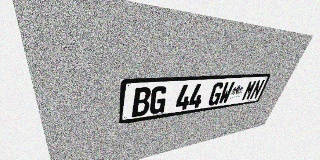4: (174, 84, 193, 111), (187, 83, 206, 109)
B: (132, 87, 152, 117)
G: (149, 86, 168, 115), (207, 82, 225, 106)
M: (241, 80, 257, 101)
N: (249, 79, 265, 100)
W: (217, 81, 235, 104)
